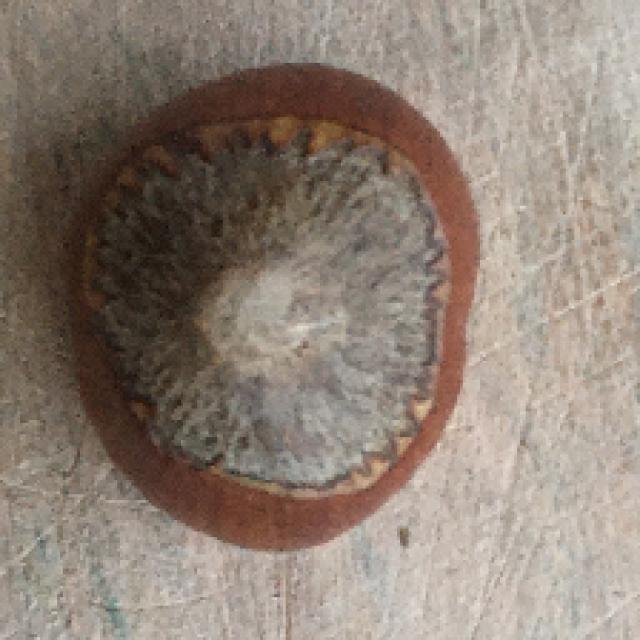damagedHazelnut: (70, 59, 479, 553)
